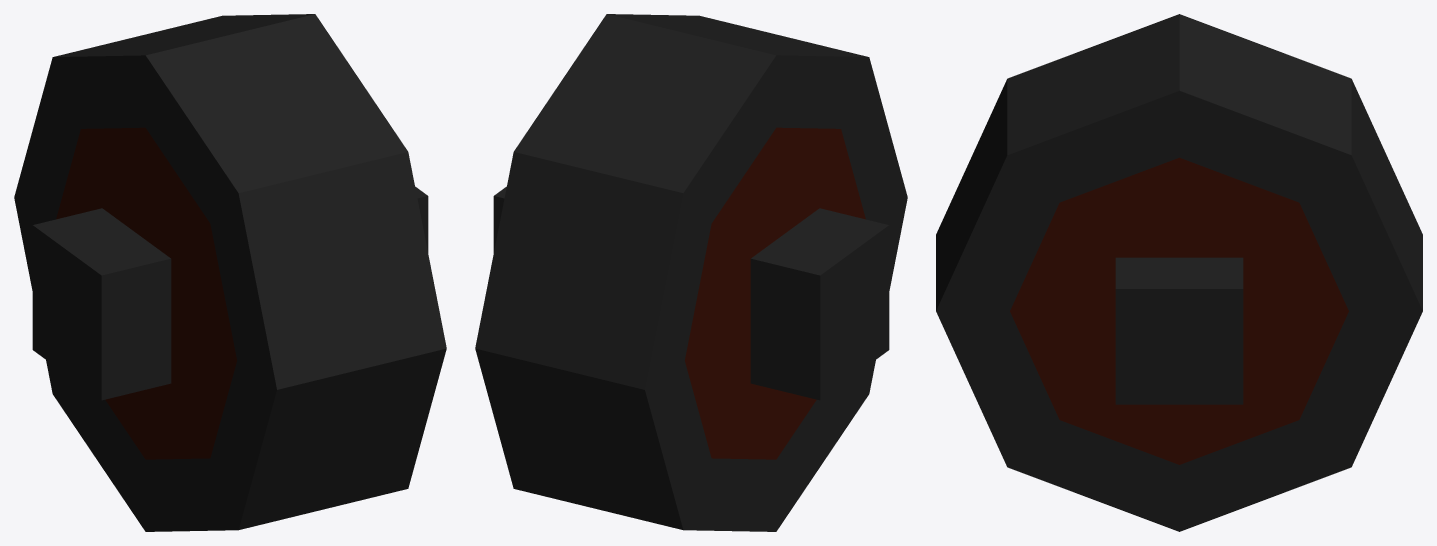
Rendered from catapult_wheel.obj.
The picture shows the model from 3 angles, left to right: view 1: azimuth 30°, elevation 25°; view 2: azimuth 150°, elevation 25°; view 3: azimuth 270°, elevation 25°; orthographic projection. The views are drawn at different scales.
Visible parts, largest first — view 1: catapult_wheel; view 2: catapult_wheel; view 3: catapult_wheel.
Part boxes in pixels (x1,y1,x2,y2): catapult_wheel: [14, 14, 446, 531]; catapult_wheel: [475, 14, 907, 531]; catapult_wheel: [936, 14, 1422, 531].
Size of the model in its own units: 0.1489 by 0.2077 by 0.2077.
